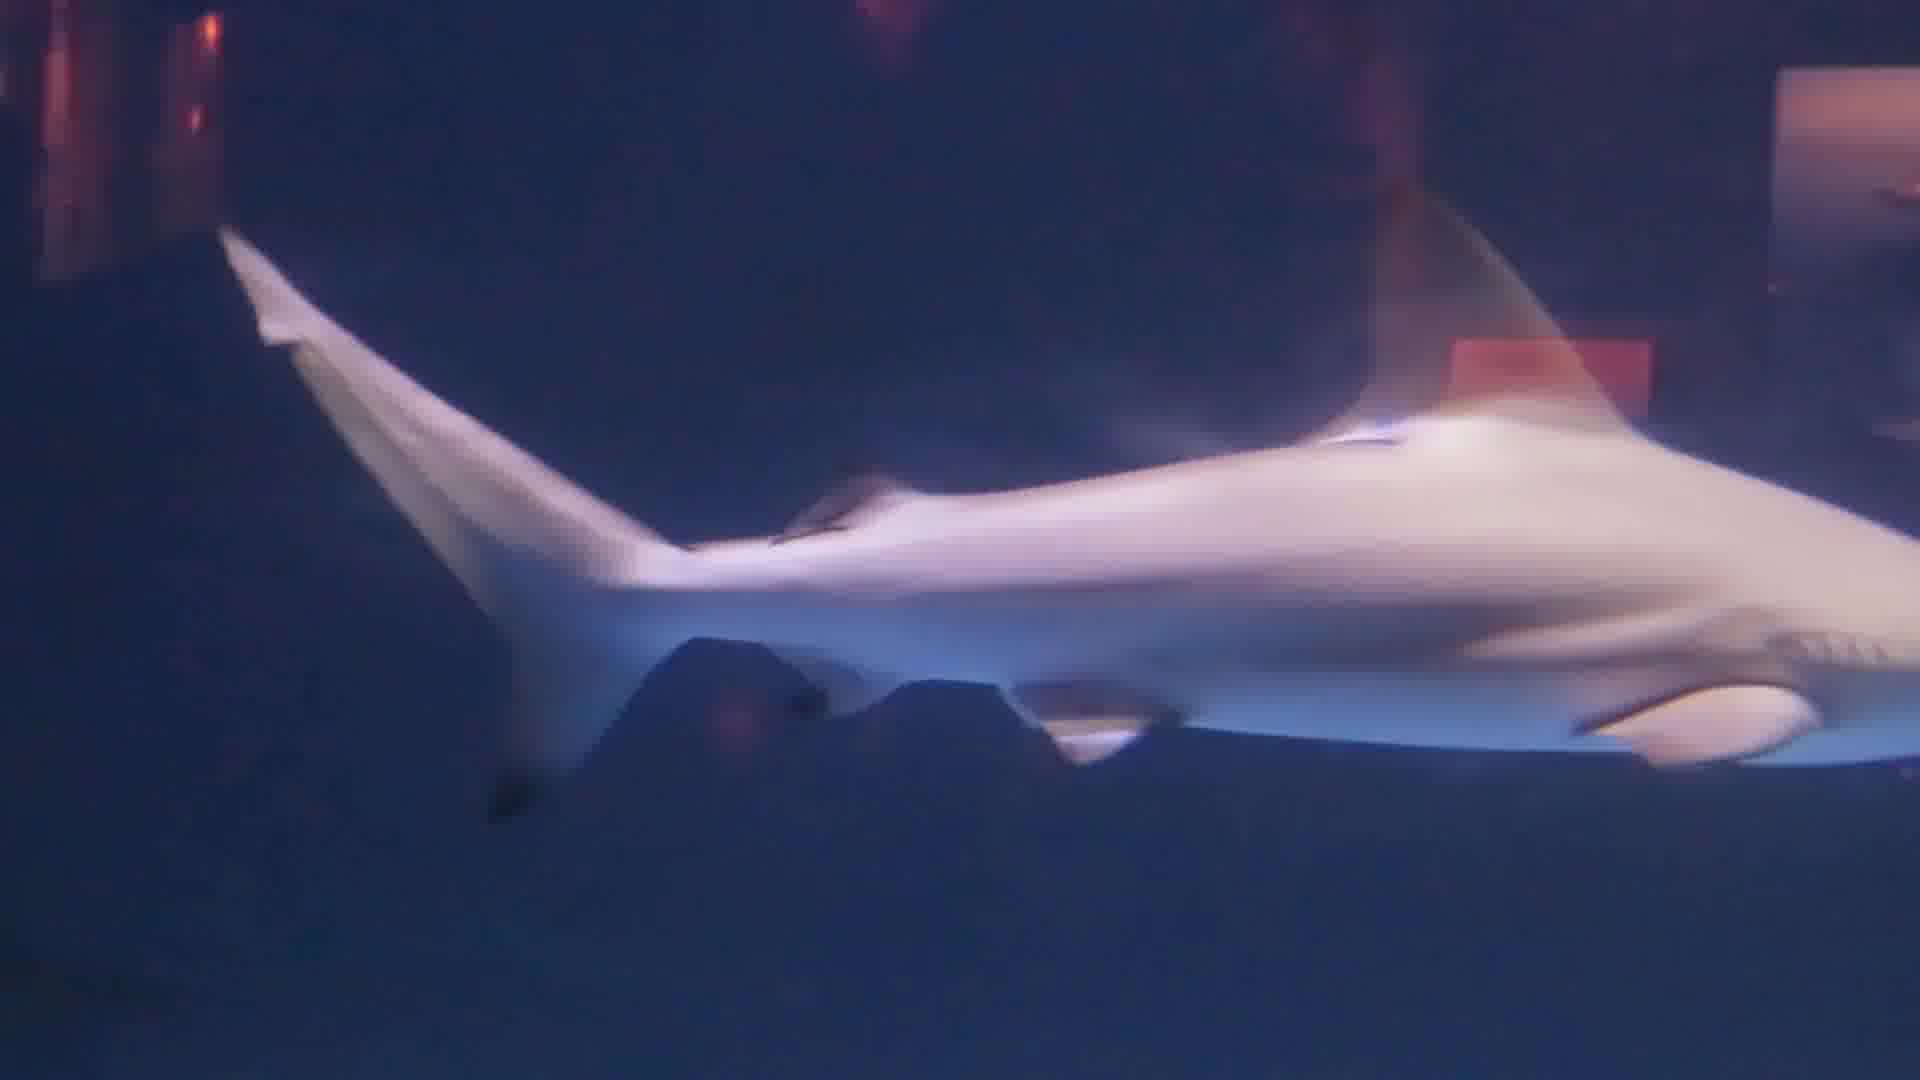Carcharhinus leucas: (287, 105, 1904, 836)
